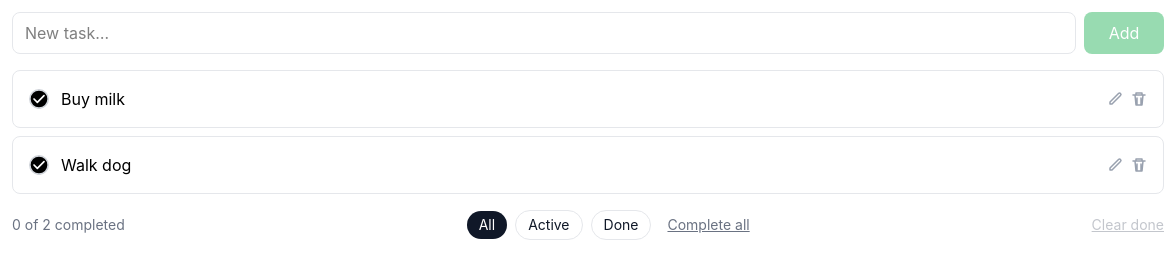
Test: bulk action error feedback › shows "Failed to complete all tasks." when every task in Complete all fails
Expected: the text "Buy milk" is shown, x1=61 y1=89 x2=125 y2=109
Click the button "Complete all" at {"x": 709, "y": 225}, box x1=668 y1=215 x2=750 y2=235
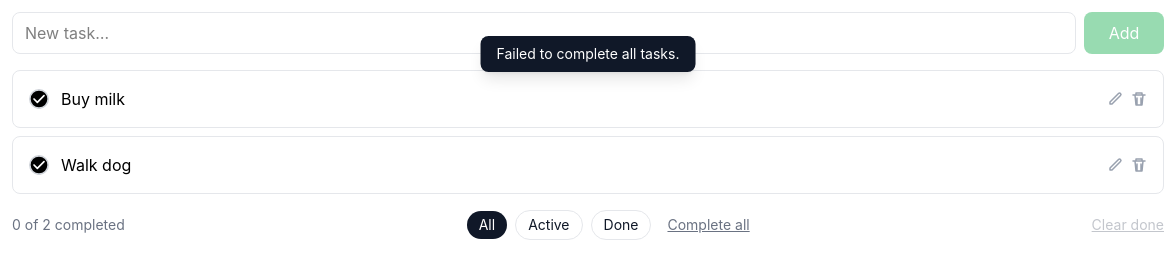
Result: the message reads "Failed to complete all tasks." at x1=496 y1=45 x2=679 y2=62
